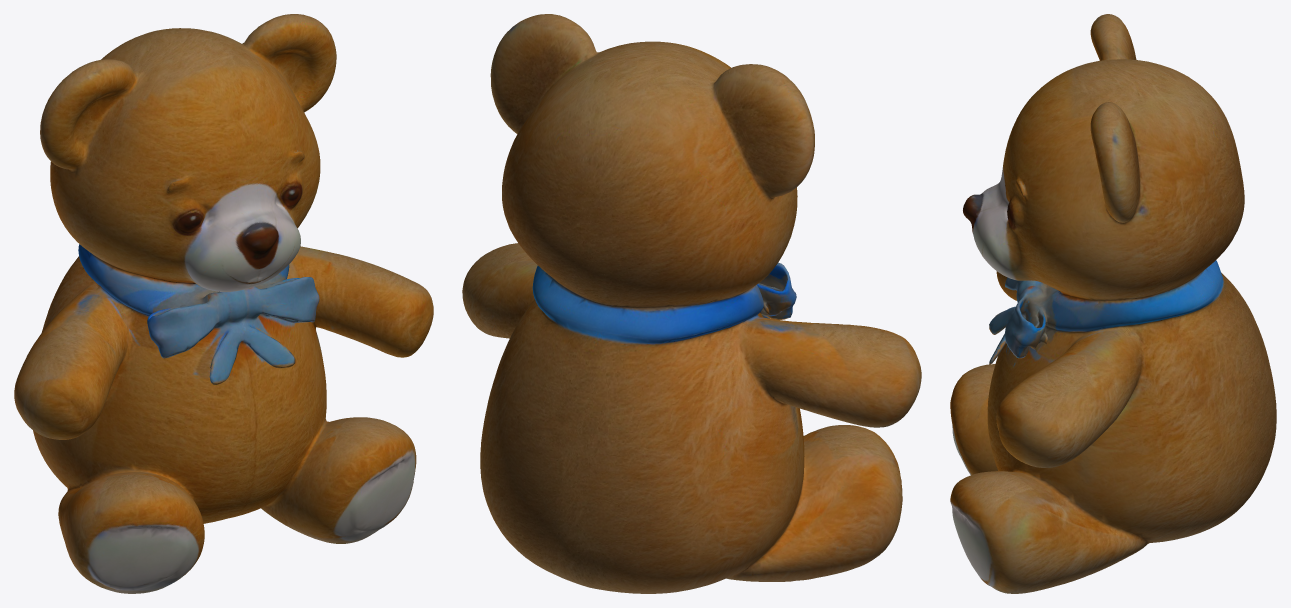
Rendered from teddy_bear_for_boys_1104144905_refine.fbx.
3 renders of one model, left to right at view 1: azimuth 30°, elevation 25°; view 2: azimuth 150°, elevation 25°; view 3: azimuth 270°, elevation 25°, orthographic. The views are drawn at different scales.
Visible parts, largest first — view 1: file1; view 2: file1; view 3: file1.
Part boxes in pixels (left/top/right/bottom): file1: left=14, top=14, right=433, bottom=593; file1: left=462, top=14, right=921, bottom=593; file1: left=950, top=14, right=1276, bottom=593.
Bounding box in the file's own units: 174 × 200 × 125.
Materials: 1 (1 with a texture image).
